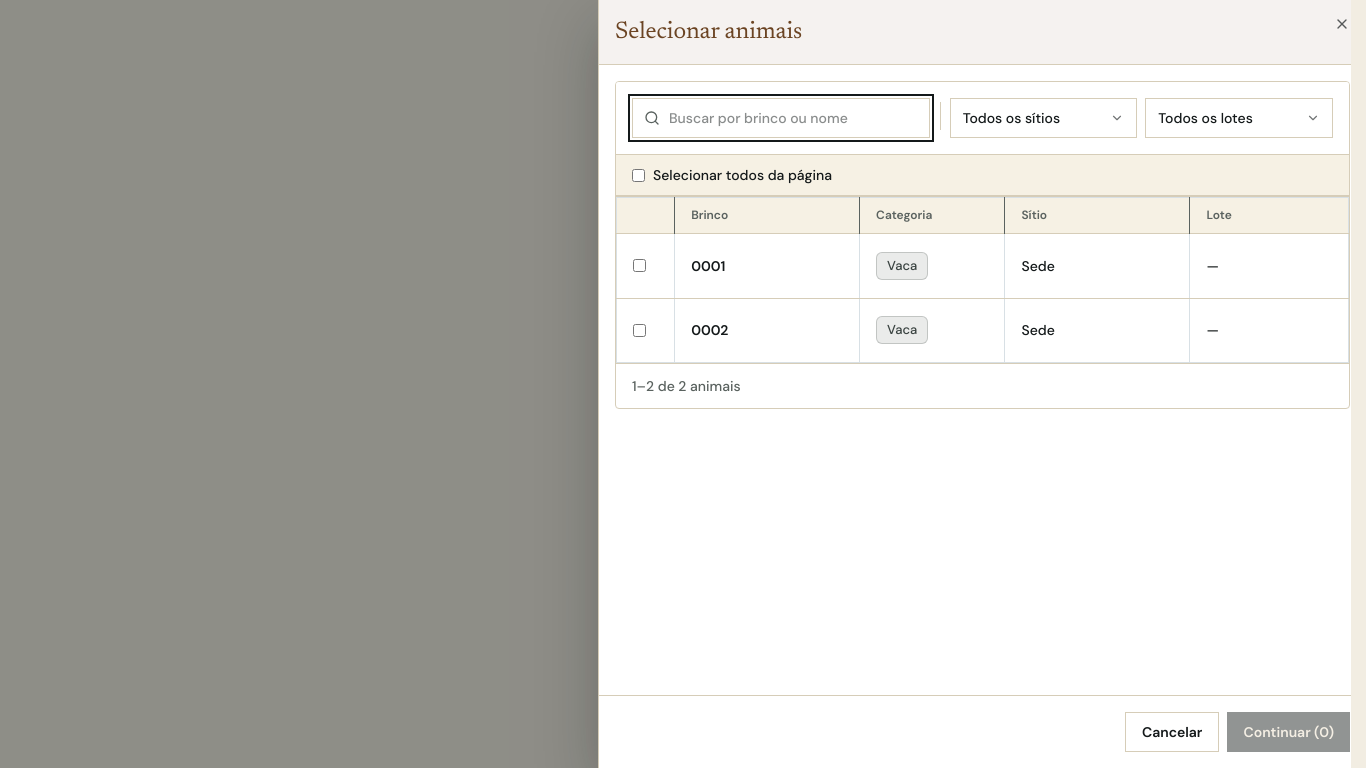
SeletorAnimais › 'selecionar todos da página' marca e desmarca os itens exibidos
The width and height of the screenshot is (1366, 768).
Click the checkbox labelled "Selecionar todos da página". click: (638, 175)
box: 632,168 -> 645,182
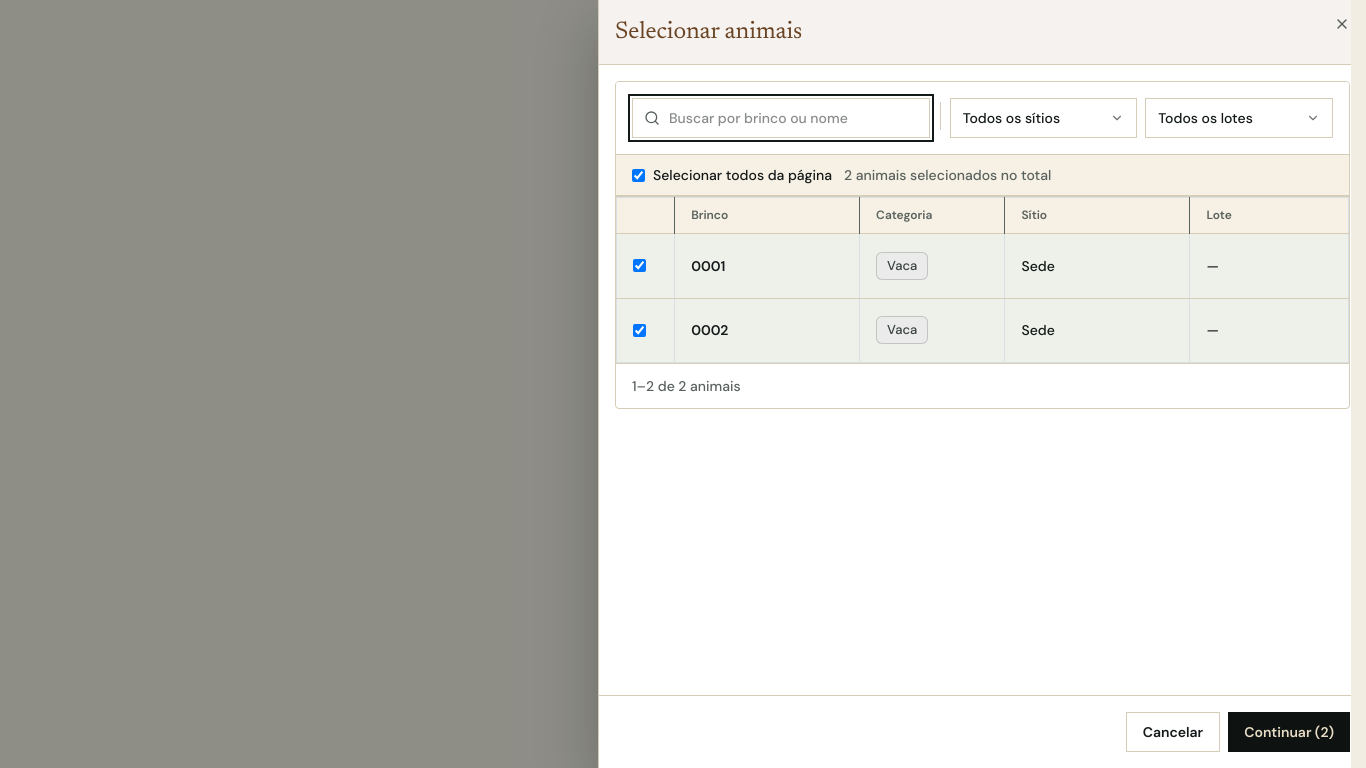
expect the text "2 animais selecionados no total" is shown: met, box 844,165 -> 1051,185
expect the checkbox named "Selecionar 0001" is checked: met, box 633,259 -> 646,272
expect the checkbox named "Selecionar 0002" is checked: met, box 633,324 -> 646,336
Click the checkbox labelled "Selecionar todos da página". click: (638, 175)
box: 632,168 -> 645,182
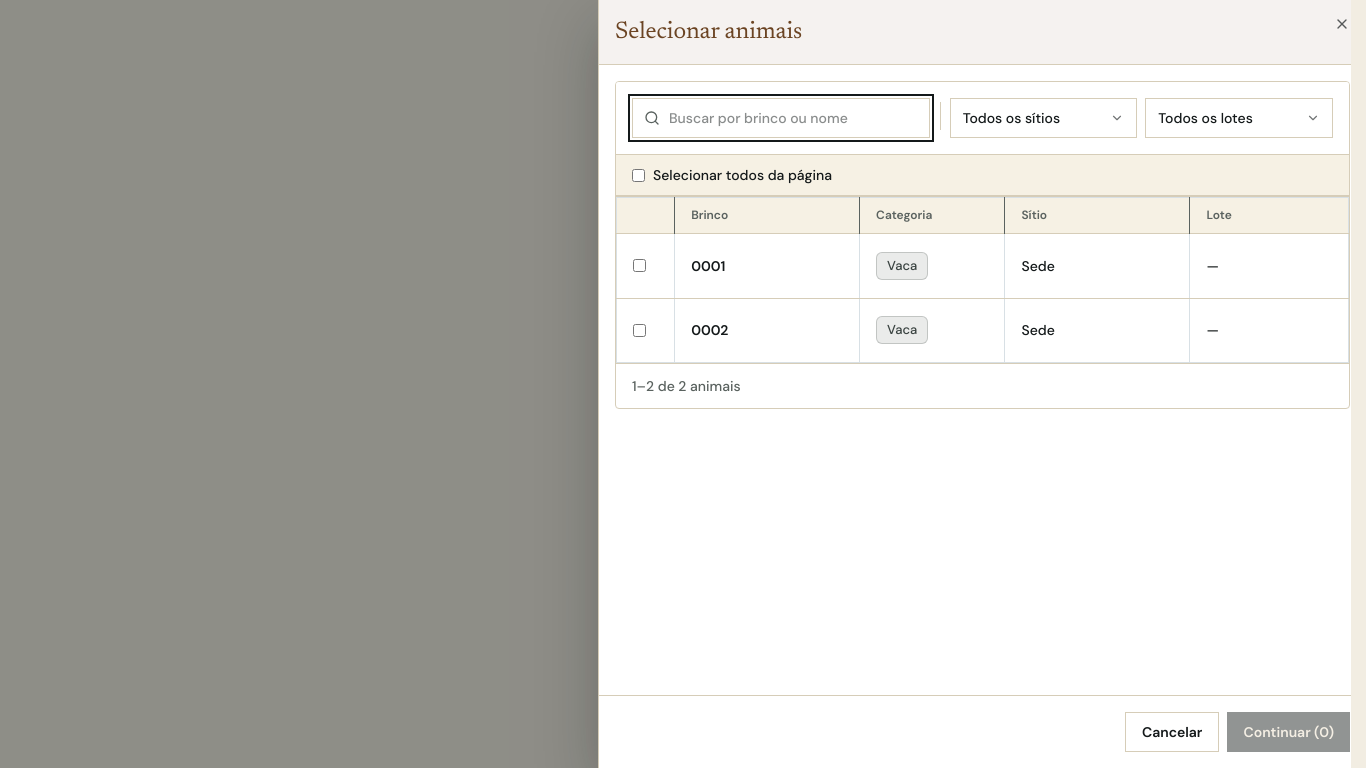
expect the text "2 animais selecionados no total" is gone: met
